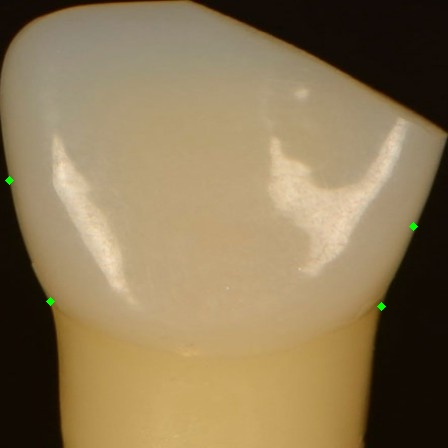coin_1: (381, 306, 401, 326)
coin_2: (413, 226, 433, 246)
coin_3: (50, 301, 70, 321)
coin_4: (9, 180, 29, 200)
